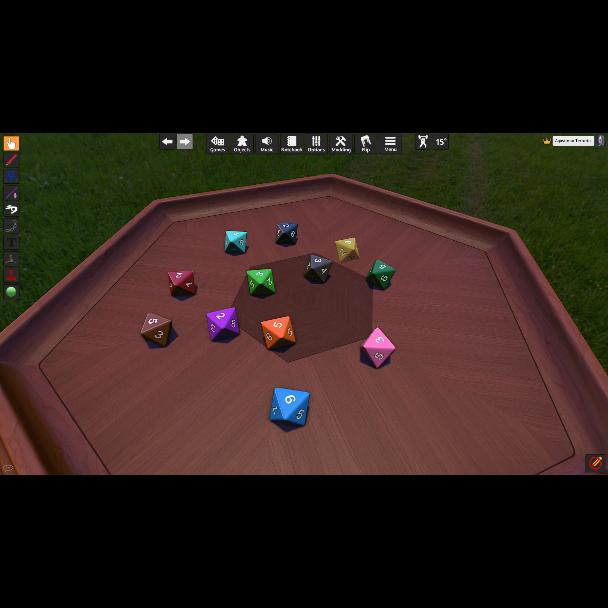d8: (270, 386, 310, 426), (361, 328, 395, 368), (260, 316, 296, 350), (142, 312, 172, 348), (206, 308, 236, 340), (366, 260, 394, 290), (304, 254, 330, 284), (246, 270, 274, 296), (168, 270, 196, 296), (275, 222, 297, 246), (224, 230, 246, 254), (336, 238, 358, 262)
